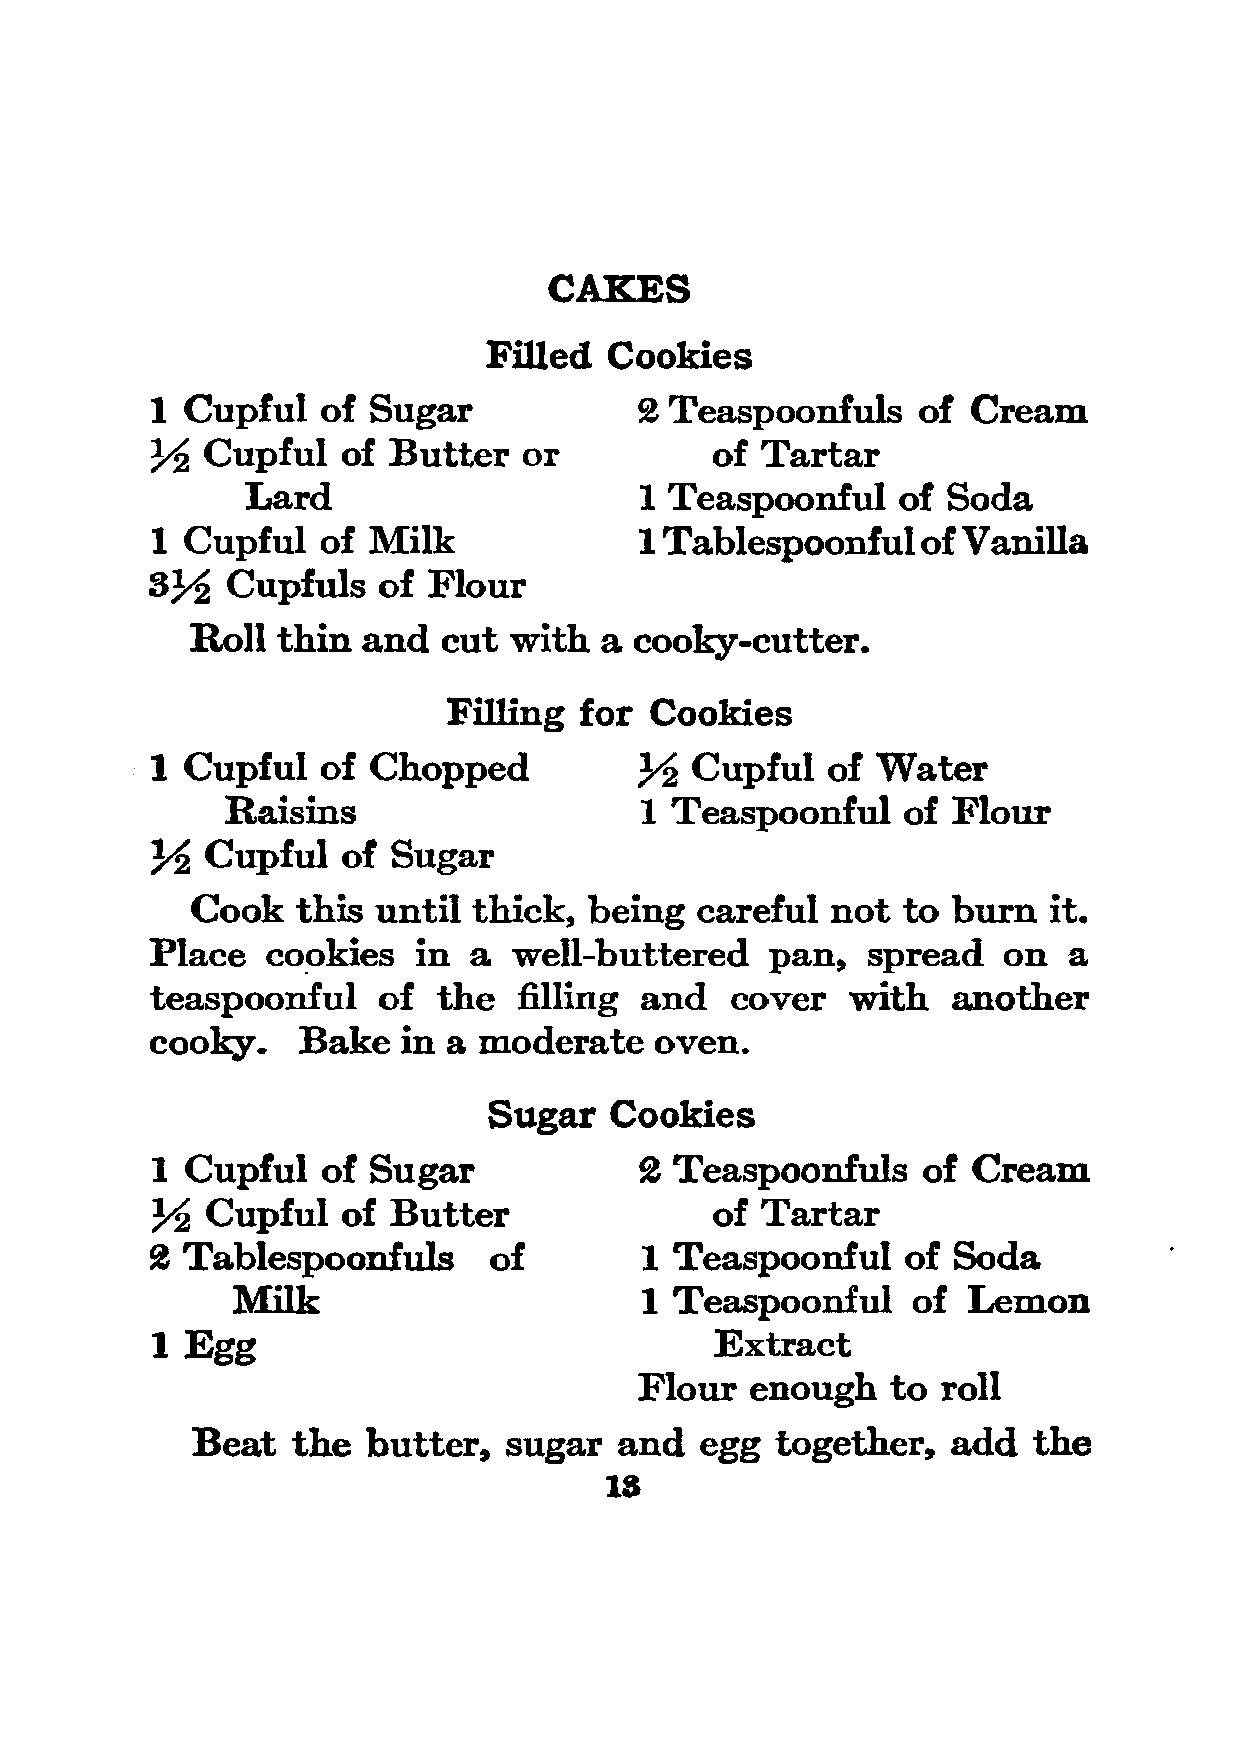chapter: (439, 692, 794, 735), (483, 333, 754, 378), (482, 1096, 756, 1139), (544, 264, 690, 309)
content: (145, 1149, 1092, 1468), (144, 750, 1092, 1067), (144, 386, 1092, 664)
content_pagenumber: (600, 1471, 643, 1504)
